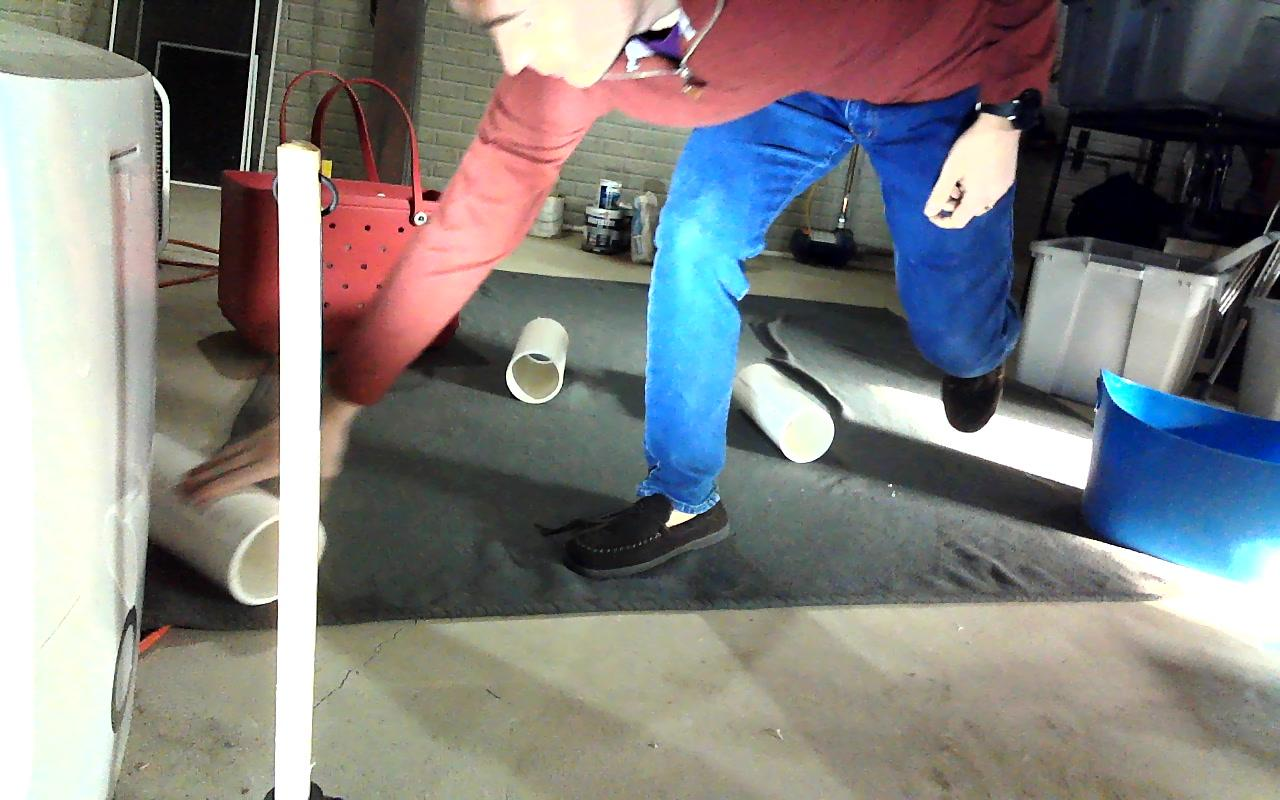coral: (143, 428, 328, 605), (735, 361, 833, 462), (505, 318, 568, 403)
